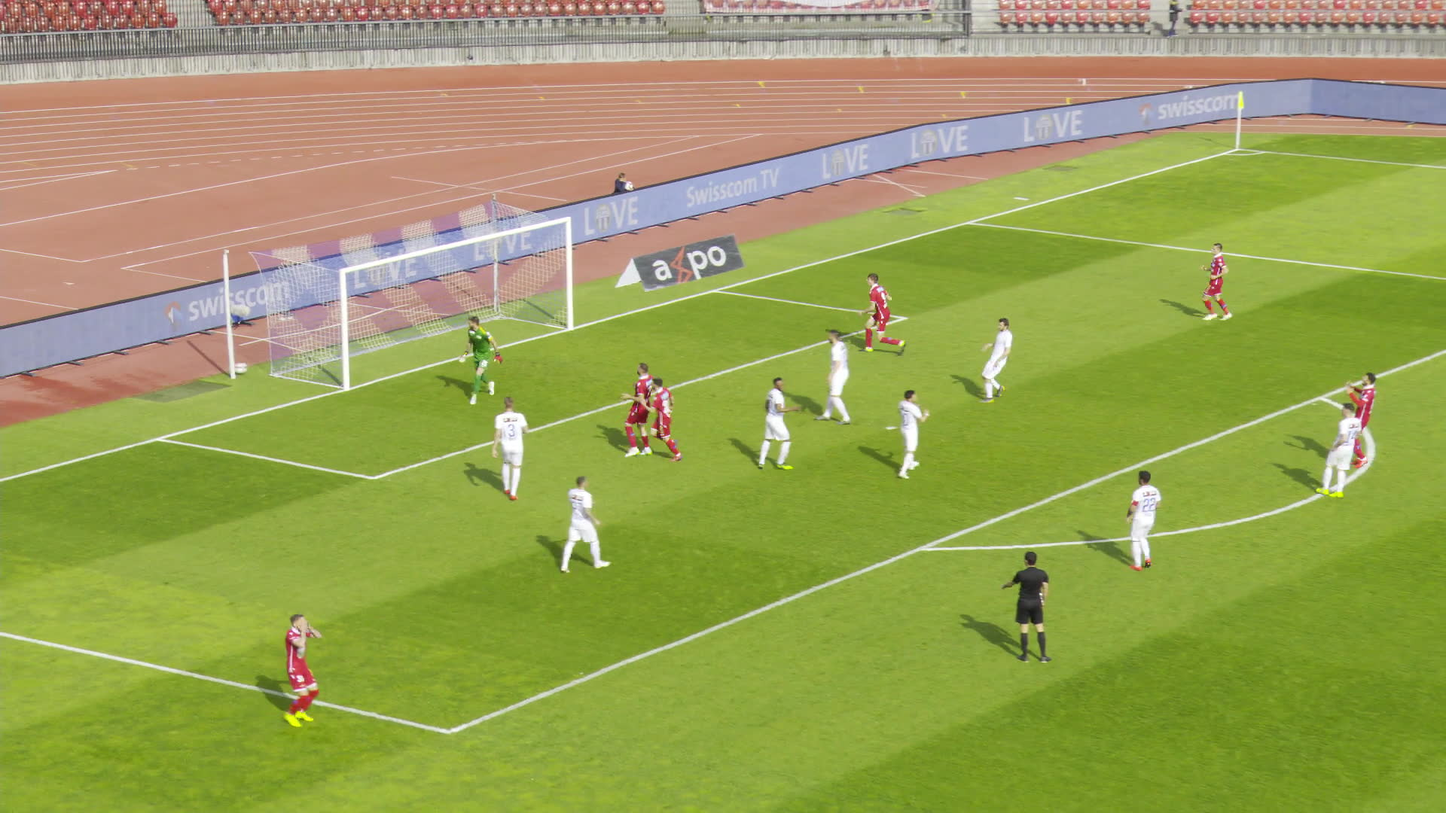ball: (227, 361, 239, 373)
player: (273, 614, 320, 726), (557, 474, 605, 574), (1311, 403, 1360, 496), (1119, 469, 1161, 573), (813, 326, 855, 425), (455, 318, 503, 404), (860, 269, 907, 354), (487, 402, 527, 500), (622, 362, 660, 458), (893, 388, 930, 480), (645, 377, 687, 458), (976, 317, 1014, 403), (1345, 371, 1377, 470), (756, 379, 790, 471), (1196, 245, 1230, 323)
referee: (998, 549, 1046, 661)
